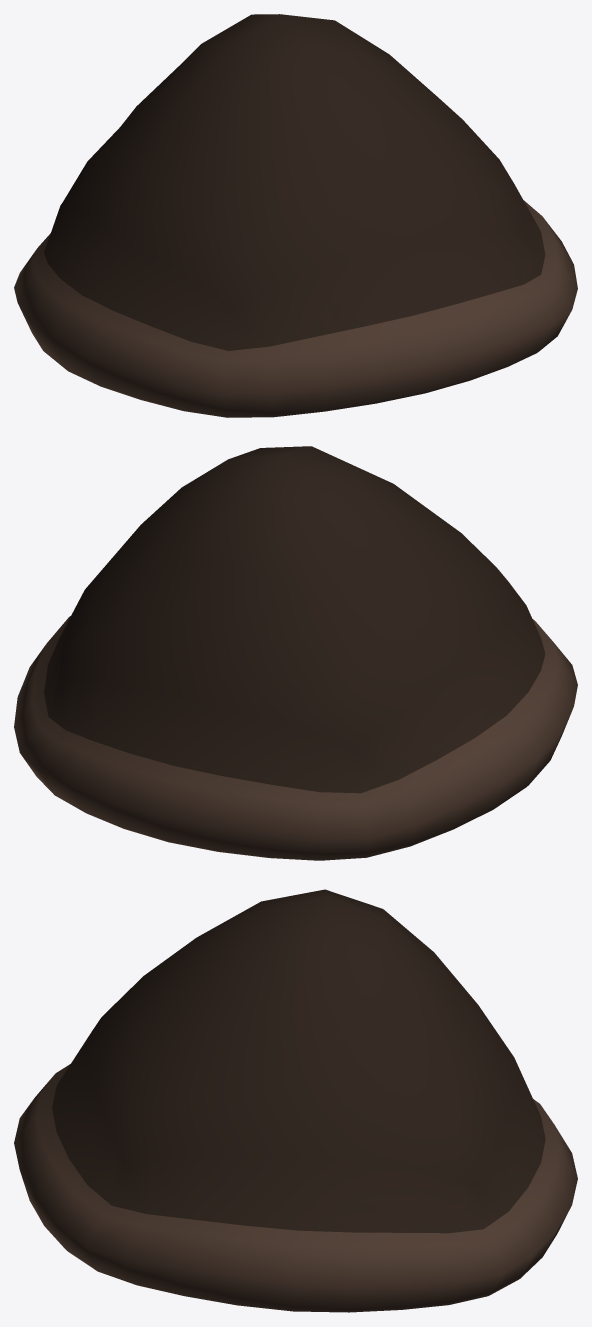
The model's file is peasantHat.fbx.
The picture shows the model from 3 angles, top to bottom: view 1: azimuth 30°, elevation 25°; view 2: azimuth 150°, elevation 25°; view 3: azimuth 270°, elevation 25°; orthographic projection. The views are drawn at different scales.
Parts seen in each view (by area): view 1: pawnBase.004; view 2: pawnBase.004; view 3: pawnBase.004.
Boxes of the visible parts, <box> form: pawnBase.004: <box>14,14,577,417</box>; pawnBase.004: <box>14,446,577,860</box>; pawnBase.004: <box>14,889,577,1312</box>.
Size of the model in its own units: 176 by 106 by 172.
